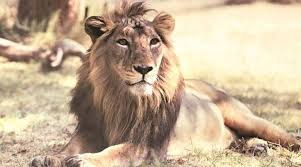lion: (39, 12, 232, 154)
